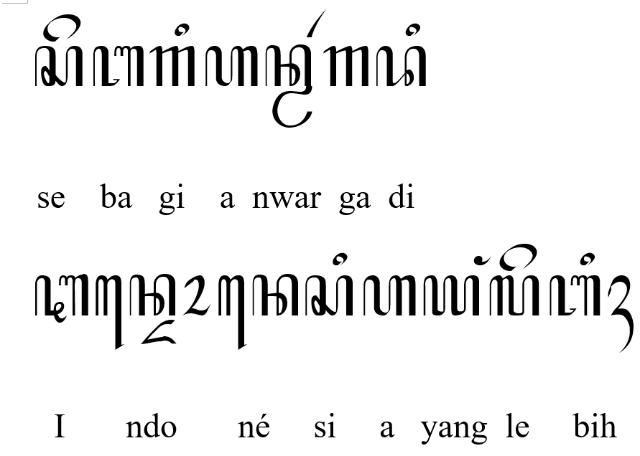I: (34, 274, 90, 324)
_d: (140, 319, 177, 345)
_h1: (608, 276, 634, 354)
_r1: (306, 8, 328, 38)
b: (92, 44, 144, 88), (548, 275, 602, 317)
d: (375, 44, 427, 88)
e: (498, 243, 538, 272), (43, 13, 81, 43)
e1: (217, 275, 247, 351), (95, 274, 124, 351)
g: (322, 45, 370, 87), (150, 47, 197, 88)
h: (206, 44, 258, 88), (362, 275, 416, 317)
i: (579, 252, 595, 268), (173, 22, 190, 37), (405, 22, 421, 37), (332, 252, 348, 267)
l: (488, 276, 540, 316)
n: (251, 273, 299, 317), (128, 275, 176, 317)
ng: (474, 255, 492, 265)
nw: (265, 44, 313, 128)
o: (181, 276, 211, 316)
s: (304, 274, 354, 318), (34, 46, 84, 86)
y: (422, 274, 480, 318)
